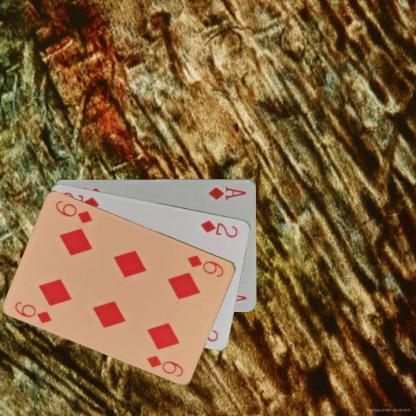2d: (198, 217, 239, 239)
6d: (184, 251, 226, 278), (12, 298, 53, 325)
Ad: (206, 183, 248, 201)
